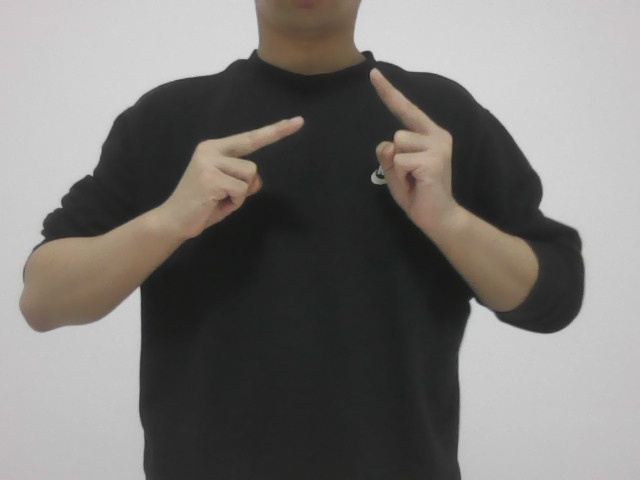know: (164, 81, 467, 268)
